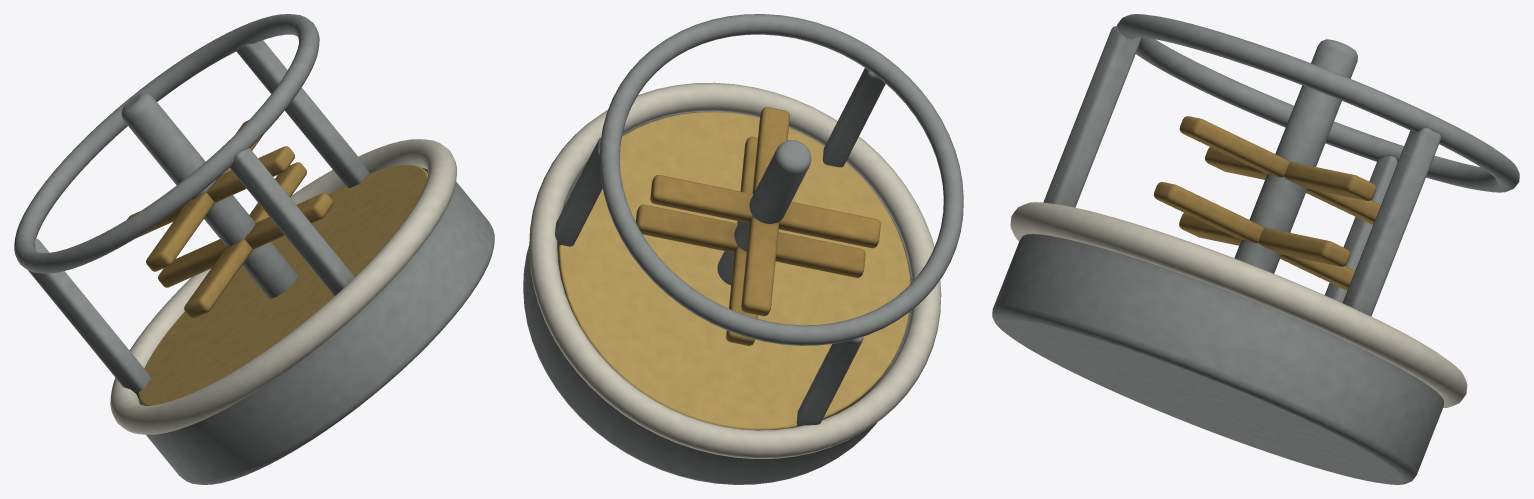
The picture shows the model from 3 angles, left to right: view 1: azimuth 30°, elevation 25°; view 2: azimuth 150°, elevation 25°; view 3: azimuth 270°, elevation 25°; orthographic projection. The views are drawn at different scales.
Visible parts, largest first — view 1: Thick-walled sample vessel; view 2: Thick-walled sample vessel; view 3: Thick-walled sample vessel.
Boxes of the visible parts, bbox=[...] form: Thick-walled sample vessel: bbox=[14, 14, 494, 484]; Thick-walled sample vessel: bbox=[523, 14, 963, 484]; Thick-walled sample vessel: bbox=[992, 14, 1519, 484].
Bounding box in the file's own units: 1.14 × 1.11 × 1.11.
1 material, 1 textured.
